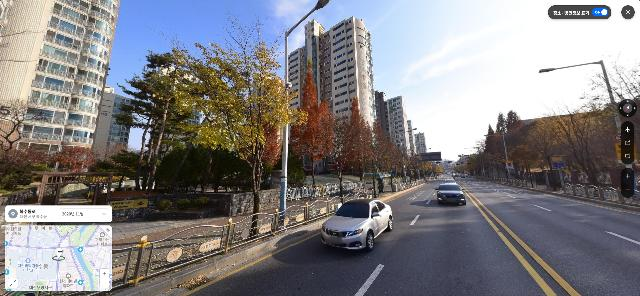ginkgo: (160, 6, 308, 236)
other: (111, 50, 206, 193), (566, 51, 640, 190), (537, 92, 623, 191), (287, 58, 333, 188), (321, 96, 372, 210), (475, 109, 541, 186), (154, 139, 242, 195), (363, 118, 399, 198), (390, 140, 411, 185)
